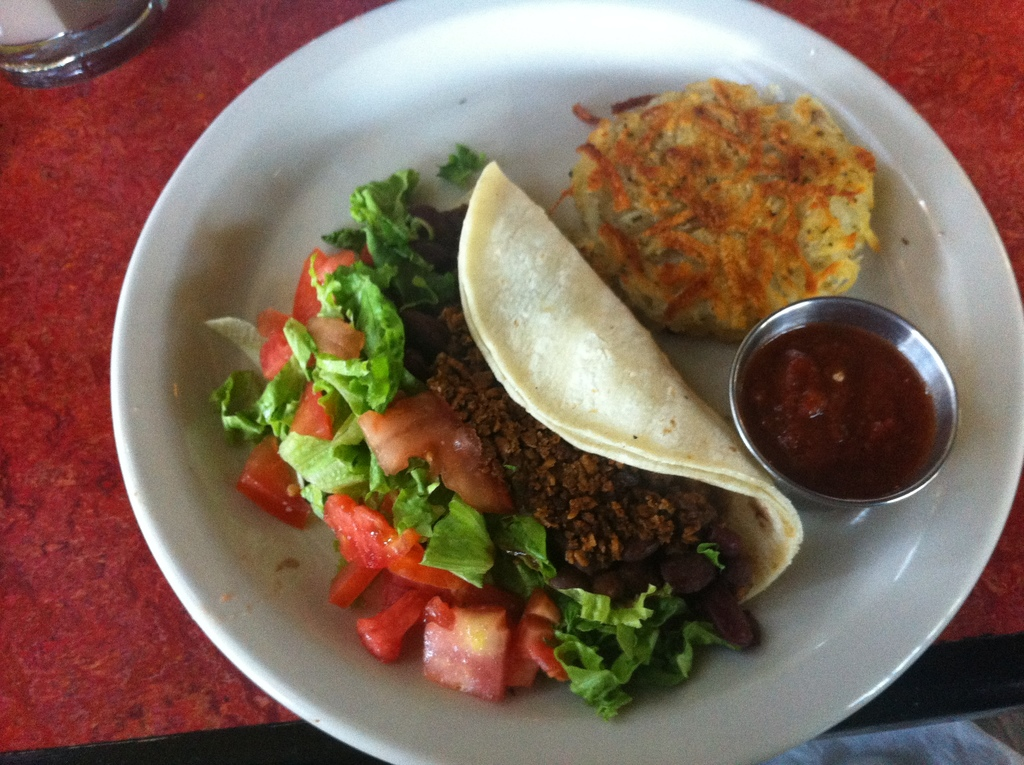taco: (208, 160, 802, 723)
